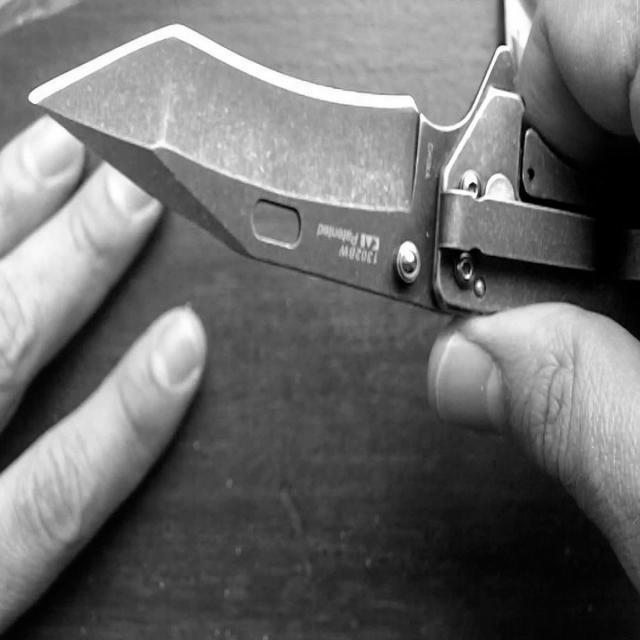knife: (28, 26, 638, 324)
